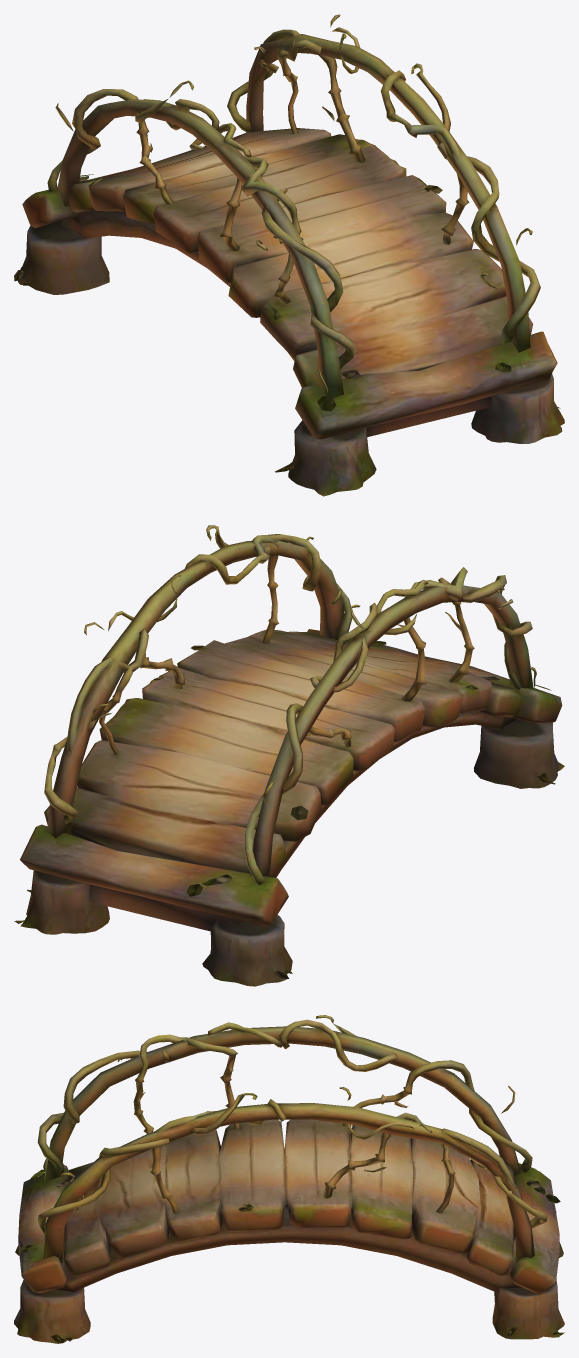
File: wyn_bridge_willow_footbridge.glb
The picture shows the model from 3 angles, top to bottom: view 1: azimuth 30°, elevation 25°; view 2: azimuth 150°, elevation 25°; view 3: azimuth 270°, elevation 25°; orthographic projection. The views are drawn at different scales.
Visible parts, largest first — view 1: tripo_node_50be6703-a2f0-4ff2-be3f-7febe73229e5; view 2: tripo_node_50be6703-a2f0-4ff2-be3f-7febe73229e5; view 3: tripo_node_50be6703-a2f0-4ff2-be3f-7febe73229e5.
Boxes of the visible parts, <box> form: tripo_node_50be6703-a2f0-4ff2-be3f-7febe73229e5: <box>14,14,564,496</box>; tripo_node_50be6703-a2f0-4ff2-be3f-7febe73229e5: <box>14,525,564,986</box>; tripo_node_50be6703-a2f0-4ff2-be3f-7febe73229e5: <box>14,1015,564,1343</box>.
Bounding box in the file's own units: 1.87 × 1.8 × 3.66.
Materials: 1 (1 with a texture image).
